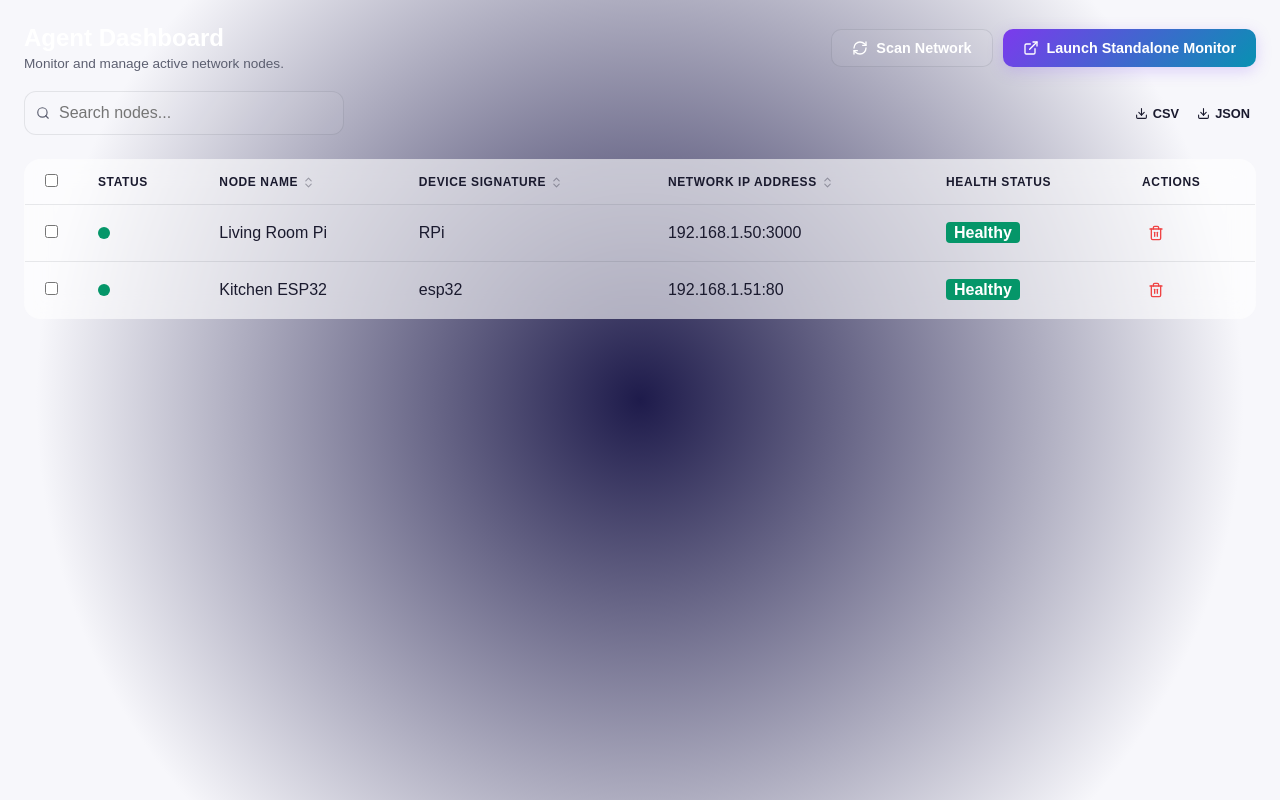
Test: AgentDashboard Component Tests › search box filters the nodes table
Type "kitchen" into the field with placeholder "Search nodes..." at (184, 113), box [24,91,344,135]
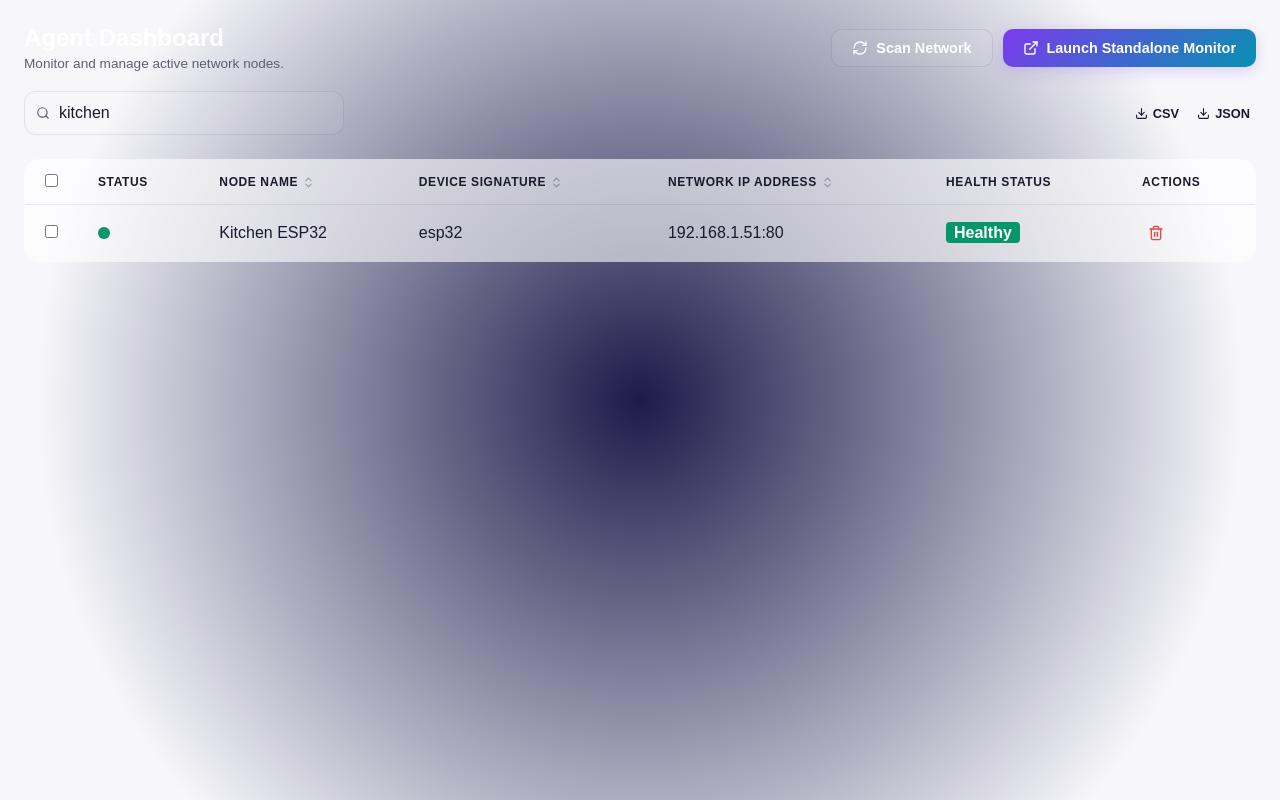
Expected: the text "Kitchen ESP32" is shown, [199,204,399,262]
Now the text "Living Room Pi" is gone
